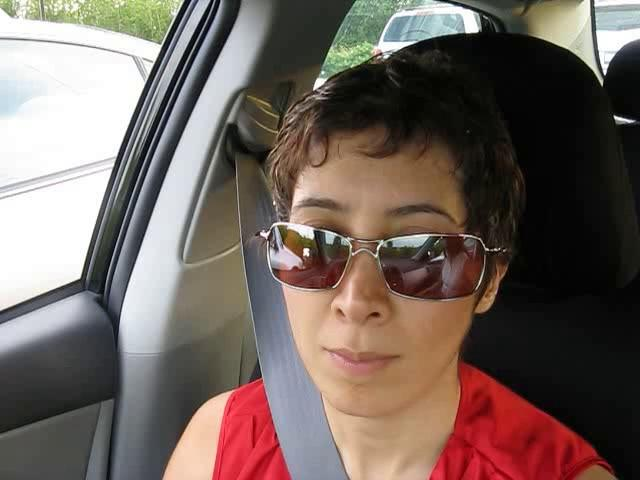no_yawn: (300, 327, 417, 387)
